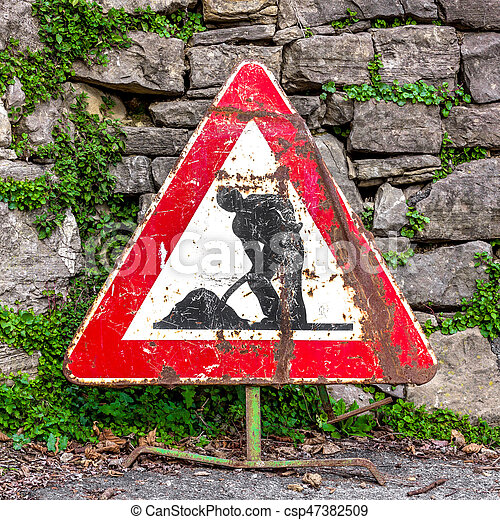caution: (65, 62, 433, 386)
